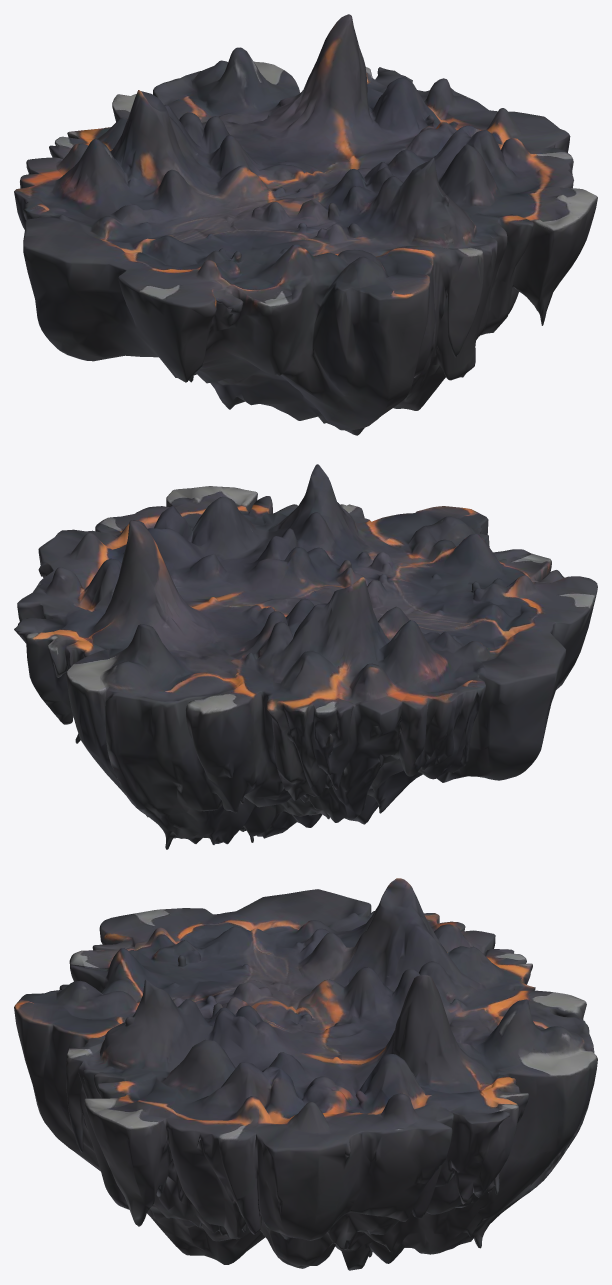
Rendered from montana.glb.
The picture shows the model from 3 angles, top to bottom: view 1: azimuth 30°, elevation 25°; view 2: azimuth 150°, elevation 25°; view 3: azimuth 270°, elevation 25°; orthographic projection. The views are drawn at different scales.
Visible parts, largest first — view 1: tripo_node_f0b506fc-13db-4531-b37d-f41c018fde8d; view 2: tripo_node_f0b506fc-13db-4531-b37d-f41c018fde8d; view 3: tripo_node_f0b506fc-13db-4531-b37d-f41c018fde8d.
Part boxes in pixels (<box>): tripo_node_f0b506fc-13db-4531-b37d-f41c018fde8d: <box>14,14,597,435</box>; tripo_node_f0b506fc-13db-4531-b37d-f41c018fde8d: <box>14,464,597,849</box>; tripo_node_f0b506fc-13db-4531-b37d-f41c018fde8d: <box>14,878,597,1270</box>.
Bounding box in the file's own units: 0.9999 × 0.5891 × 0.9436.
1 material, 1 textured.
